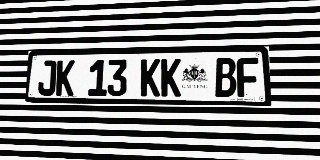1: (88, 60, 108, 96)
3: (107, 59, 127, 96)
B: (215, 58, 237, 97)
F: (237, 57, 259, 97)
J: (37, 60, 57, 96)
K: (161, 59, 181, 97), (140, 59, 160, 96), (56, 60, 75, 96)
